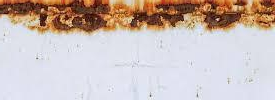Corrosion: (1, 1, 275, 34)
